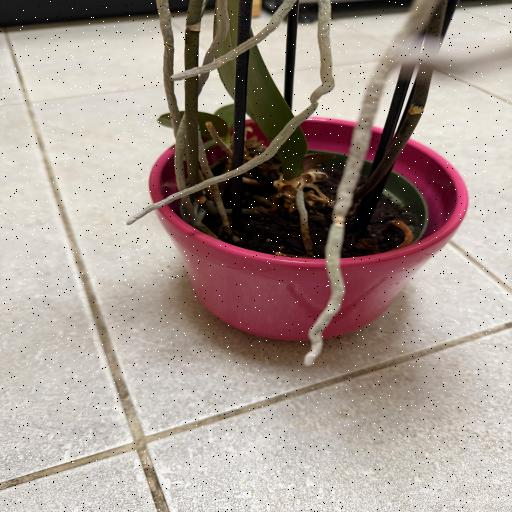Plant Pot: (148, 117, 470, 342)
